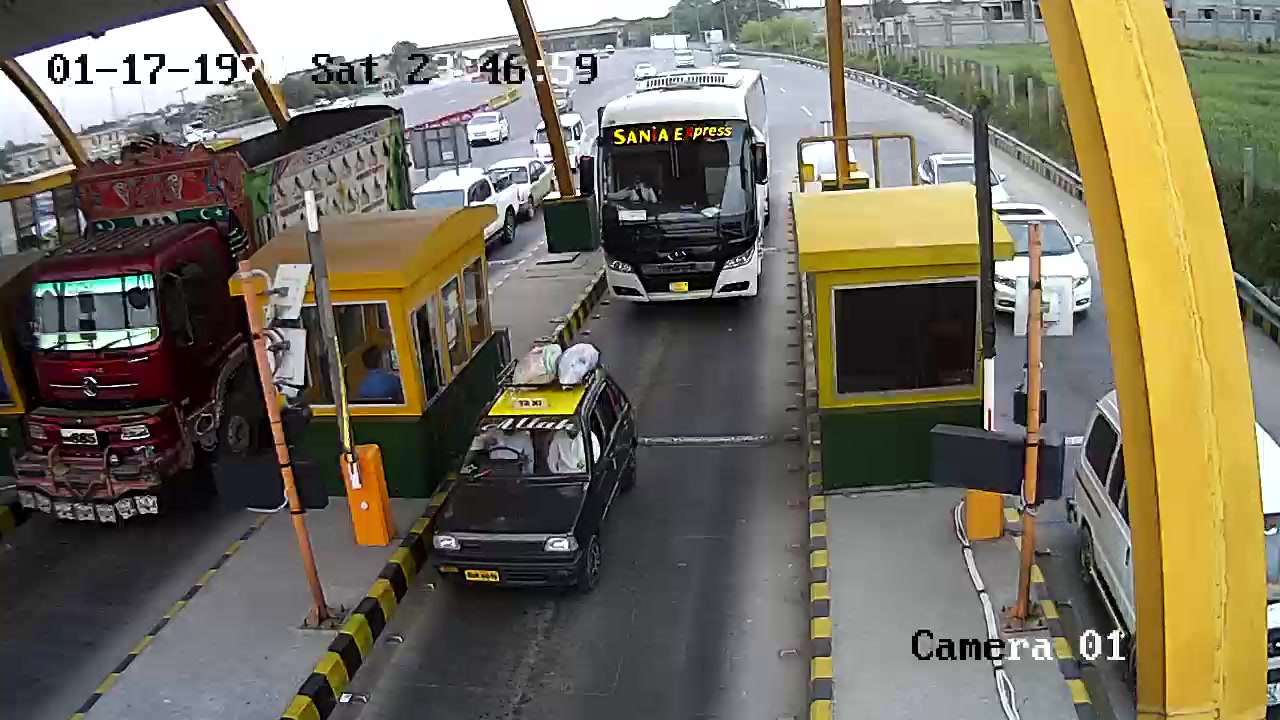F4: (603, 57, 770, 313)
